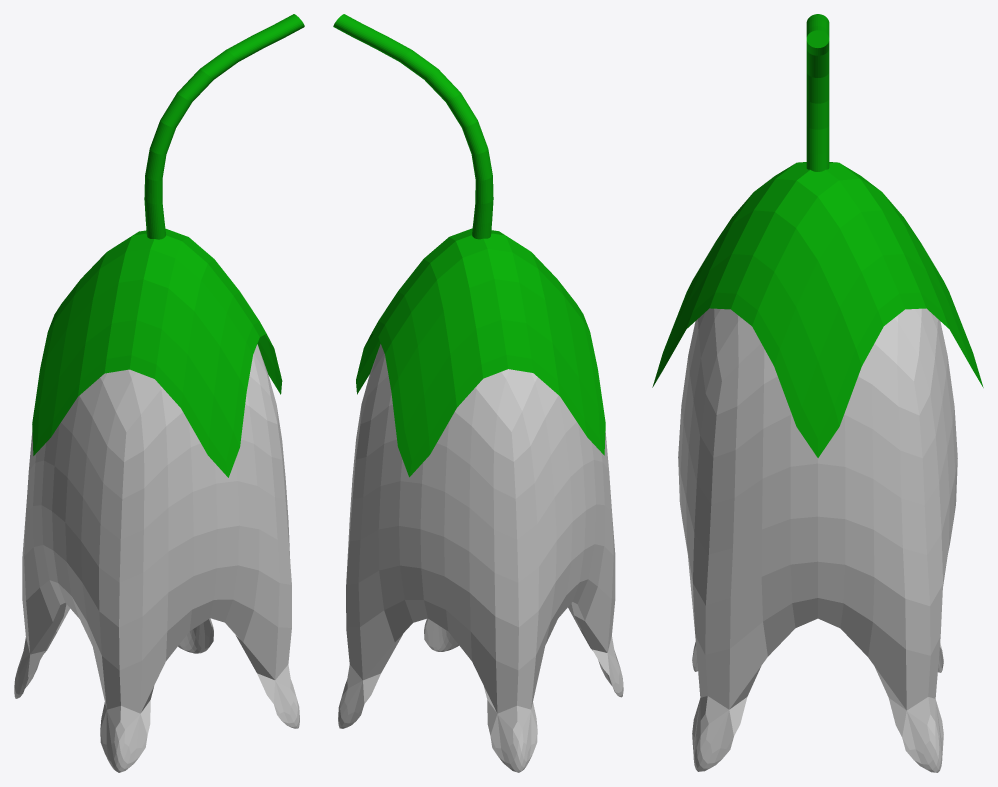
The model's file is ホタルブクロ白色 (1).fbx.
3 renders of one model, left to right at view 1: azimuth 30°, elevation 25°; view 2: azimuth 150°, elevation 25°; view 3: azimuth 270°, elevation 25°, orthographic. The views are drawn at different scales.
Parts seen in each view (by area): view 1: Cube.001, Cube, Cylinder; view 2: Cube.001, Cube, Cylinder; view 3: Cube.001, Cube, Cylinder.
Boxes of the visible parts, x1,y1,x2,y2 form: Cube.001: (14,344,299,772); Cube: (32,228,282,477); Cylinder: (144,14,304,239); Cube.001: (338,344,623,772); Cube: (356,228,605,477); Cylinder: (333,14,493,239); Cube.001: (678,308,957,772); Cube: (652,162,983,457); Cylinder: (806,14,829,171).
Size of the model in its own units: 337 by 797 by 311.
